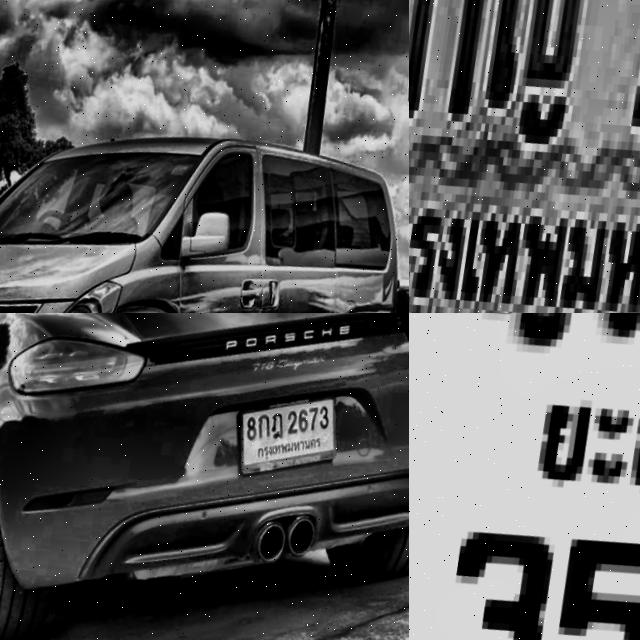license-plate: (409, 313, 640, 640), (409, 0, 640, 313), (220, 381, 349, 506)
